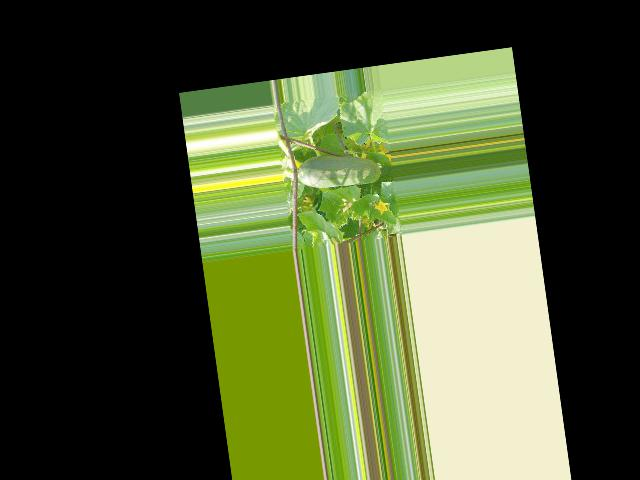cucumber: (295, 146, 382, 192)
